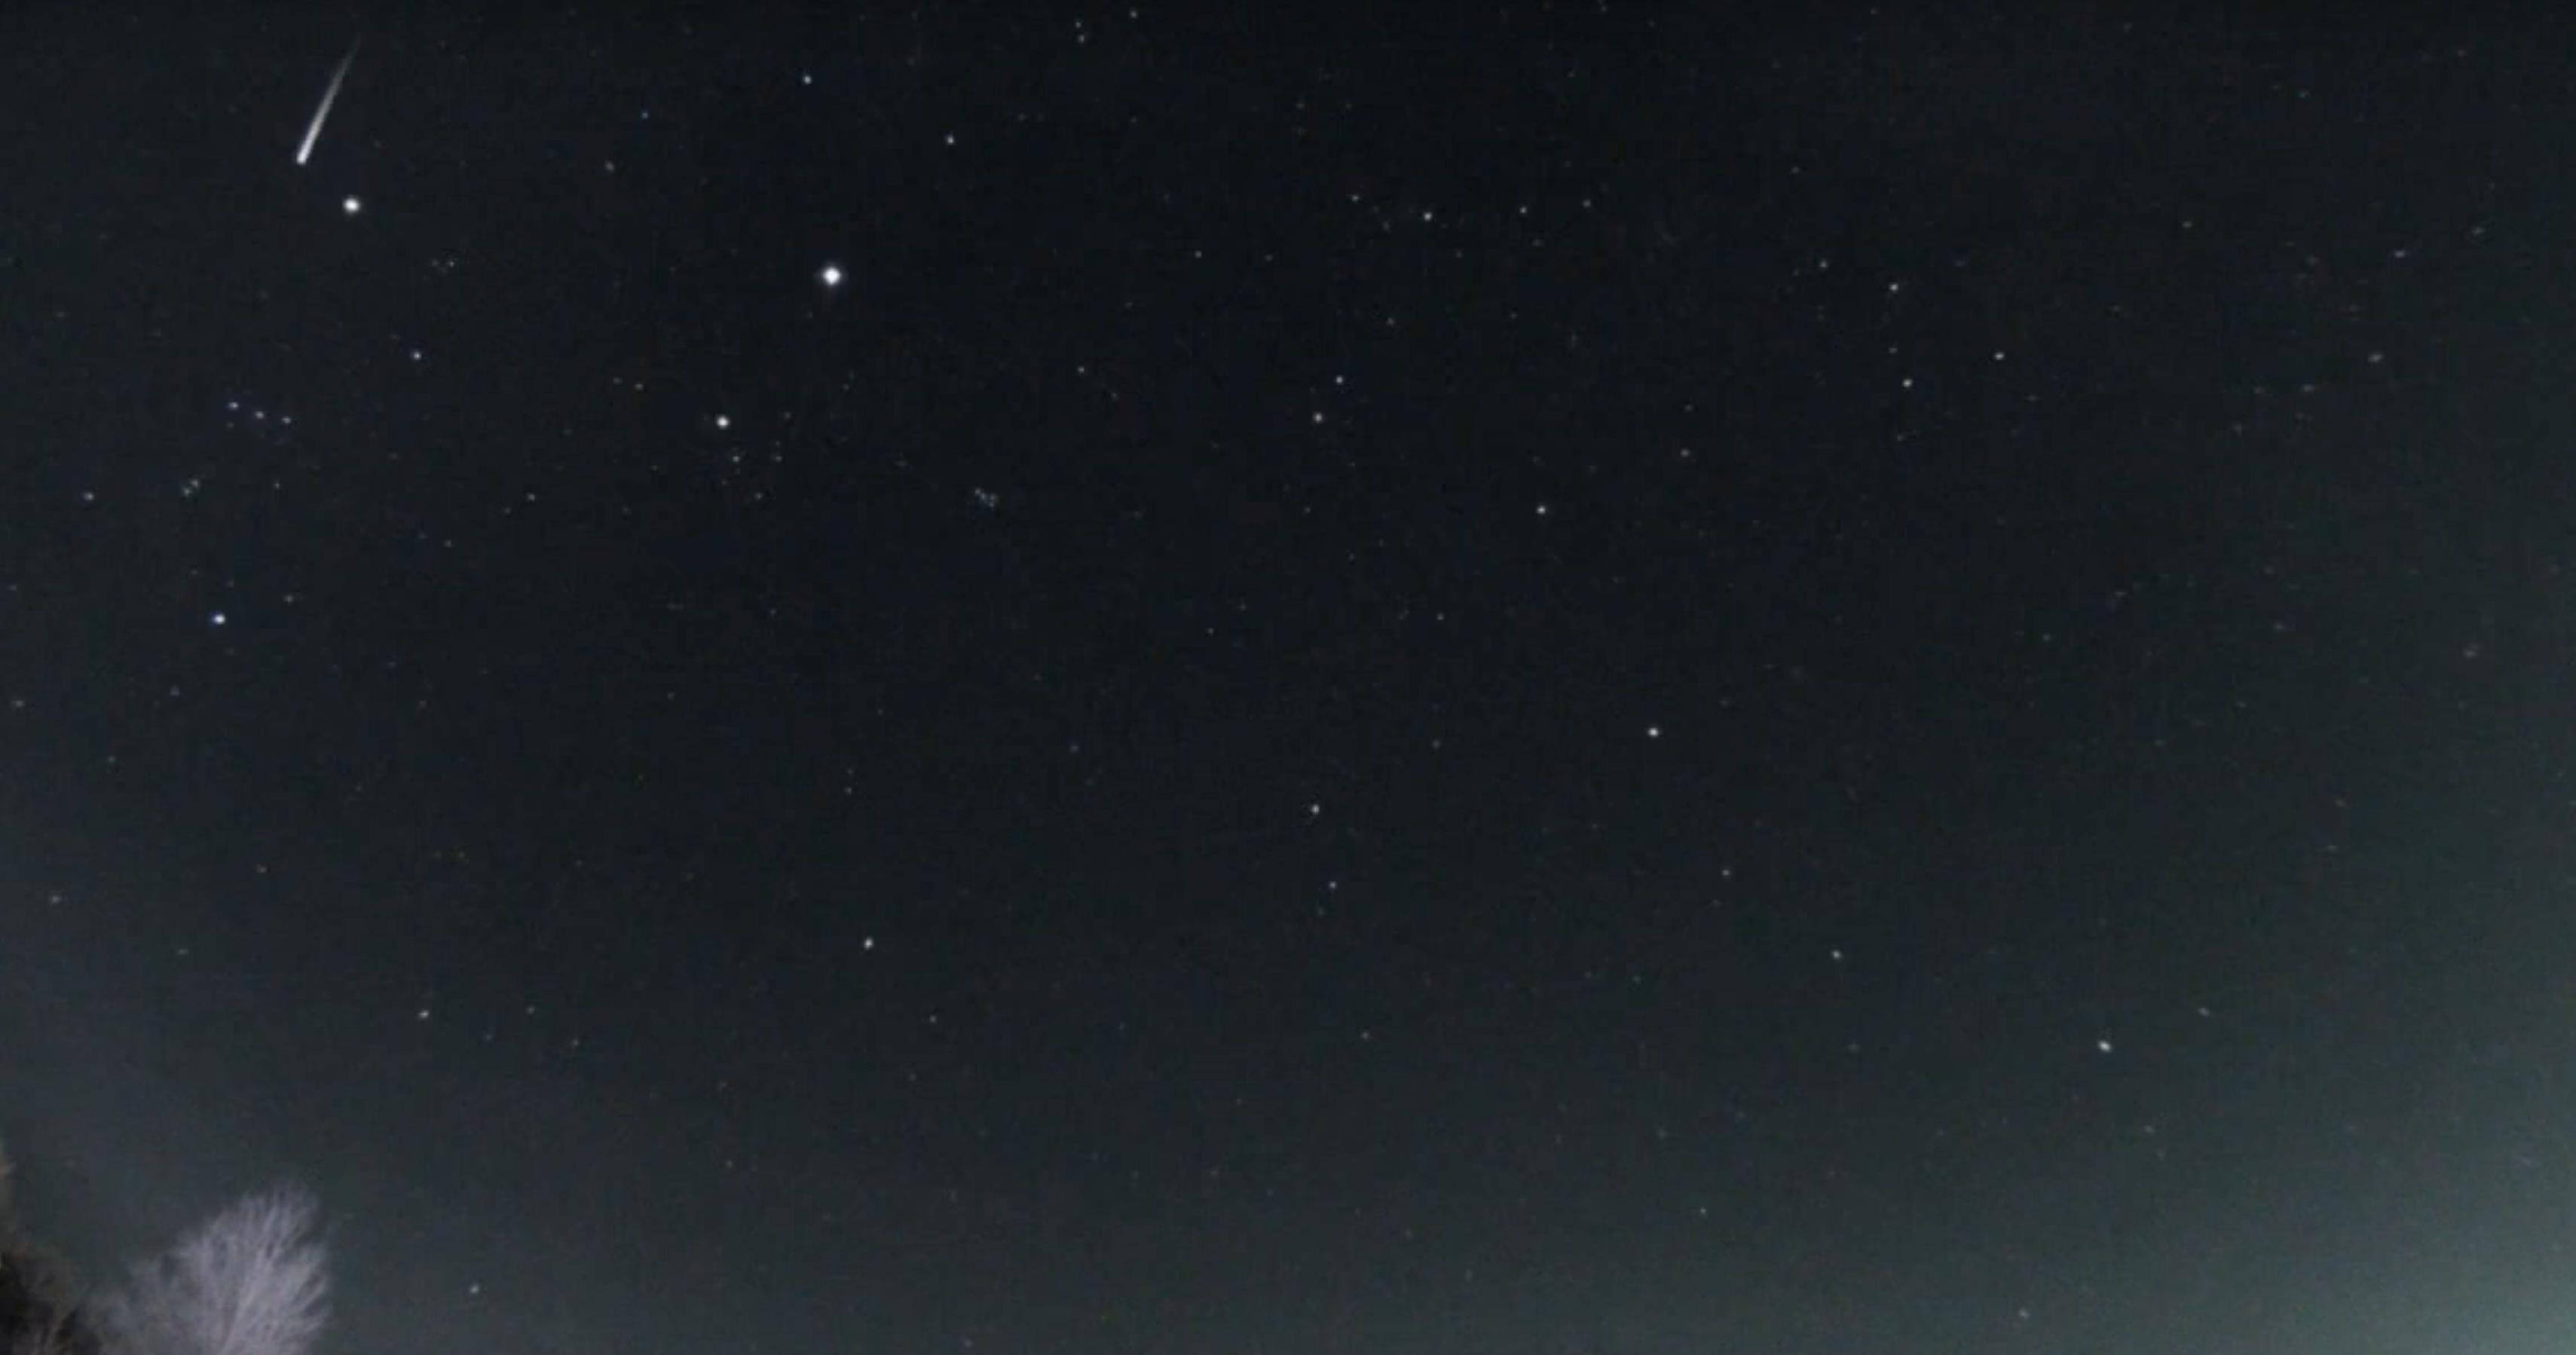meteorite: (264, 5, 392, 205)
